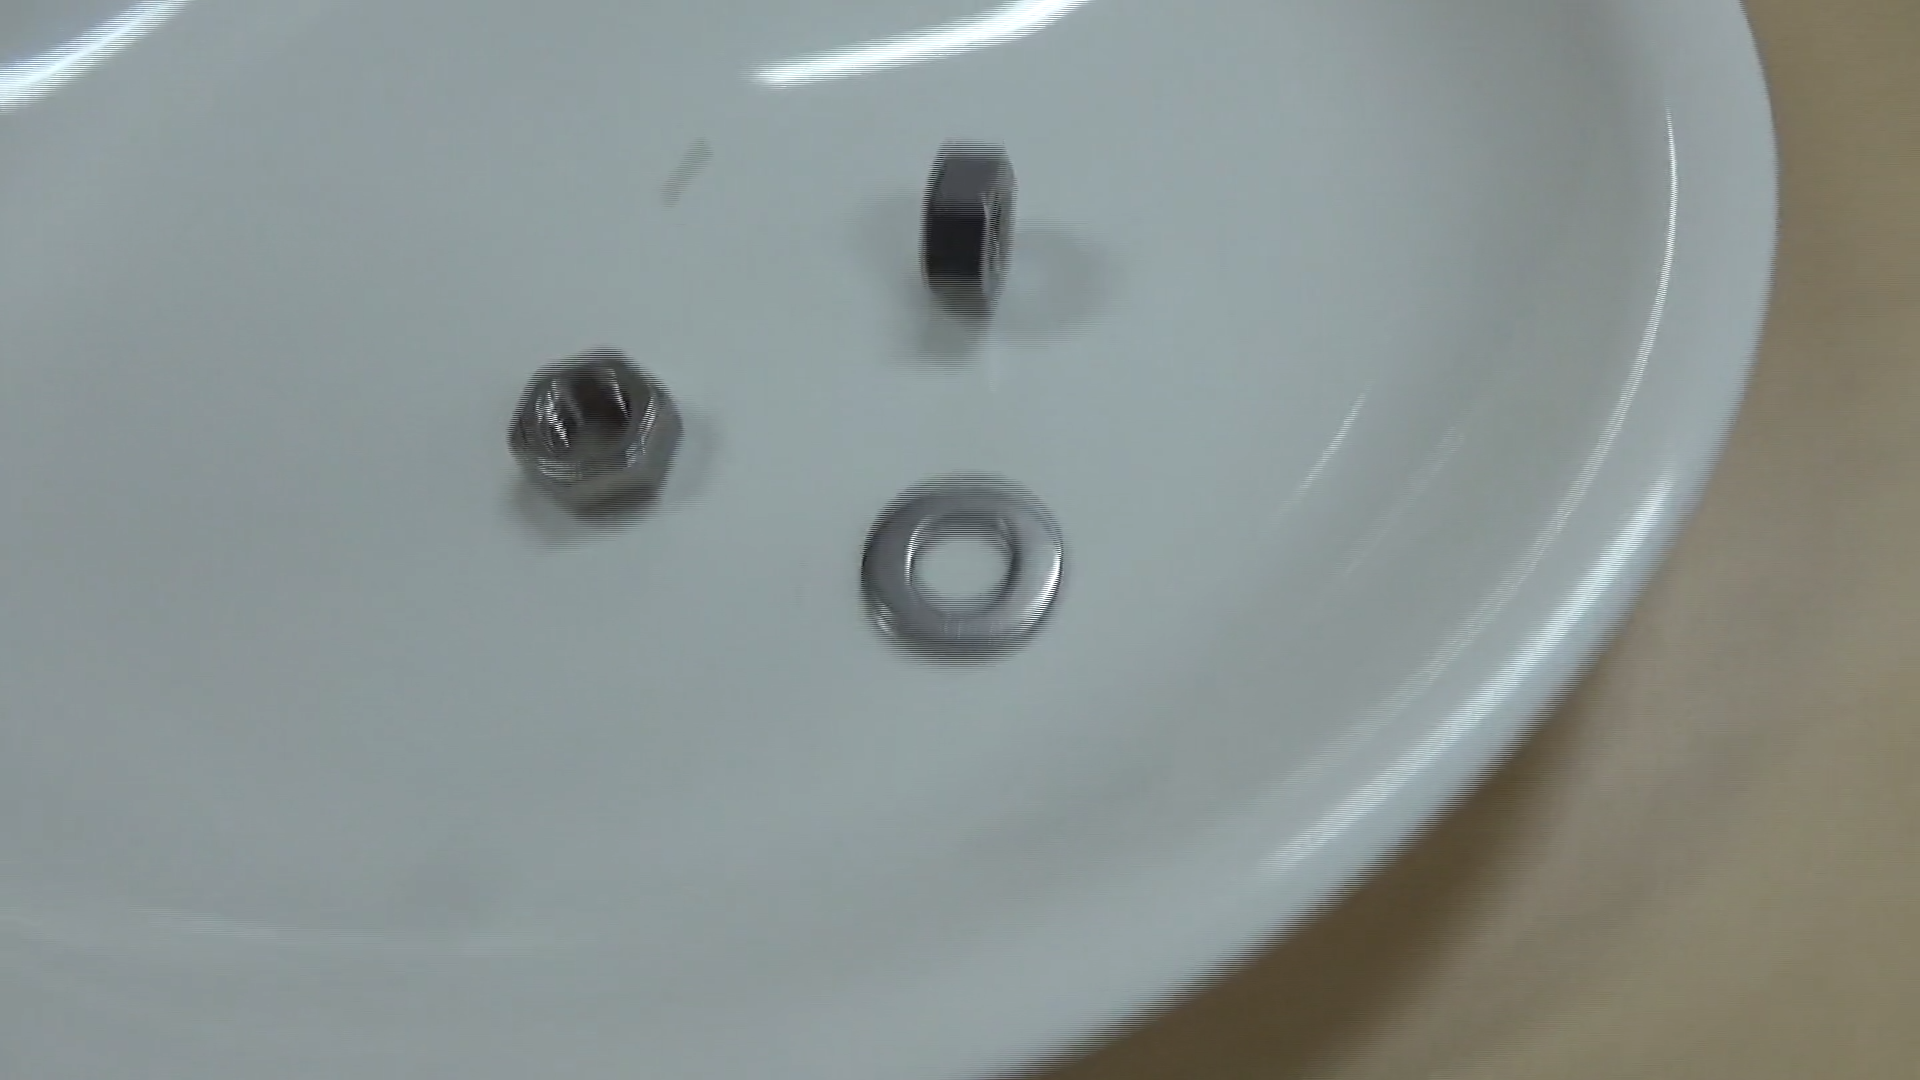nut: (501, 345, 682, 520), (916, 138, 1018, 327)
washer: (856, 468, 1067, 659)
